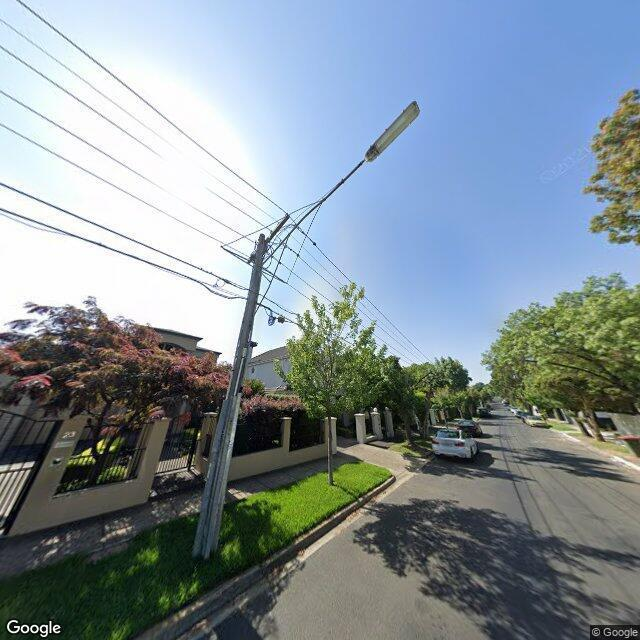crossarm: (250, 213, 292, 262)
streetlight: (263, 101, 421, 265)
timber-pole: (192, 232, 267, 560)
